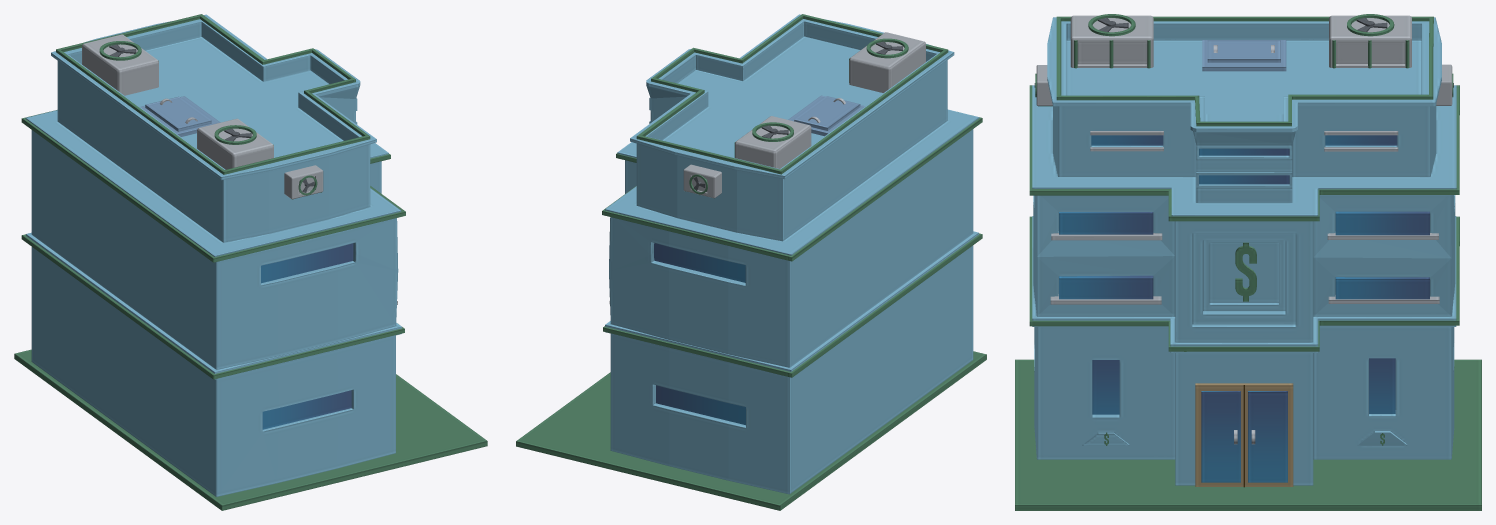
The model's file is bank.glb.
3 views of the same model, side by side, from view 1: azimuth 30°, elevation 25°; view 2: azimuth 150°, elevation 25°; view 3: azimuth 270°, elevation 25° (orthographic). The views are drawn at different scales.
Visible parts, largest first — view 1: Node; view 2: Node; view 3: Node.
Part boxes in pixels (box(x1,y1,x2,y2)): Node: box(14, 14, 487, 510); Node: box(516, 14, 986, 510); Node: box(1015, 14, 1481, 510).
Size of the model in its own units: 363 by 430 by 487.
Materials: 1 (1 with a texture image).
